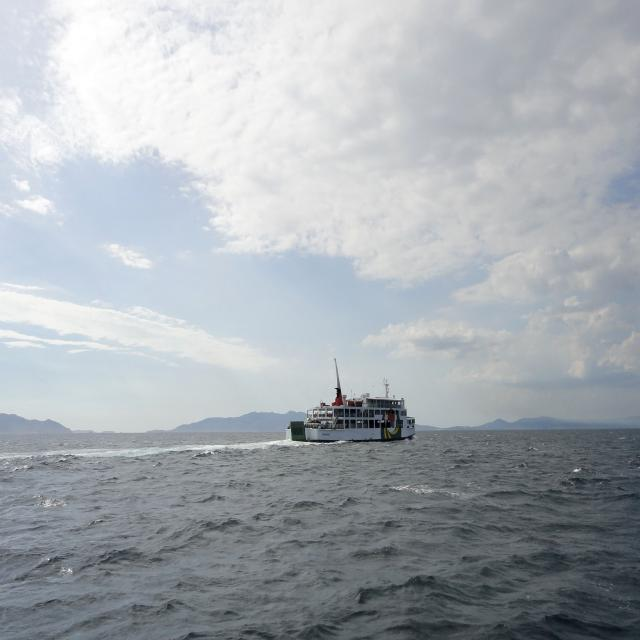passenger ship: (266, 361, 414, 452)
